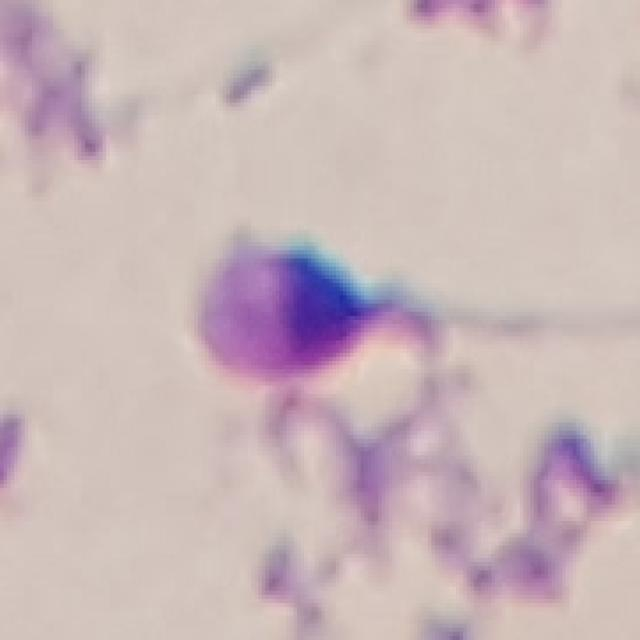normal sperm: (174, 242, 610, 381)
